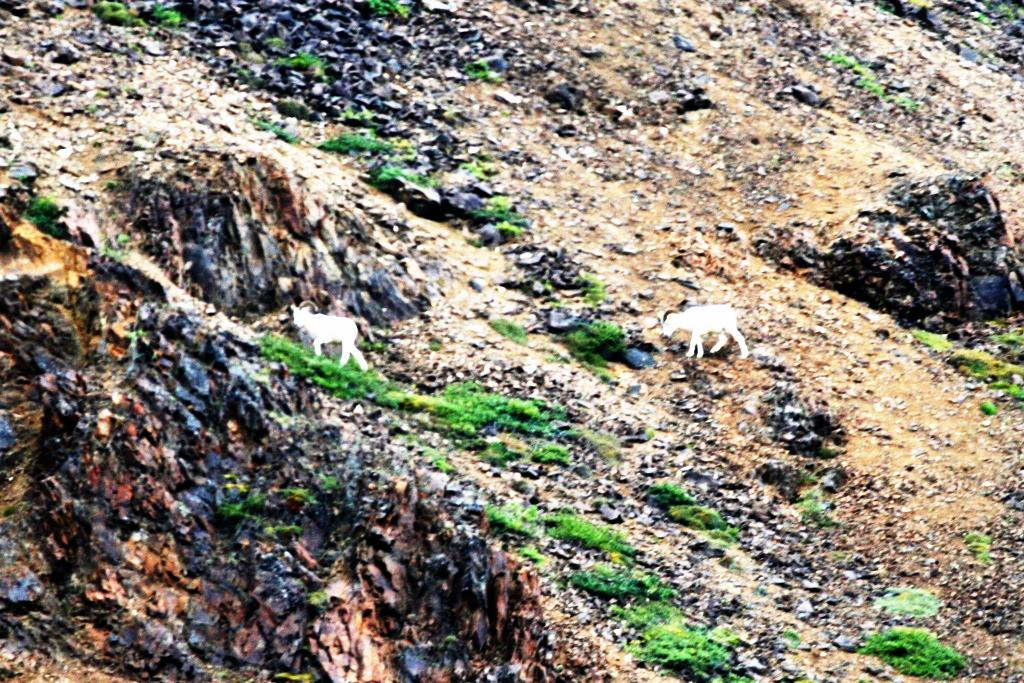Sheep: (286, 305, 358, 381), (656, 304, 751, 358)
